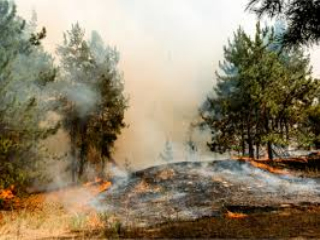fire: (4, 178, 110, 212), (234, 150, 290, 176)
smoke: (47, 63, 116, 128), (104, 152, 141, 197)
